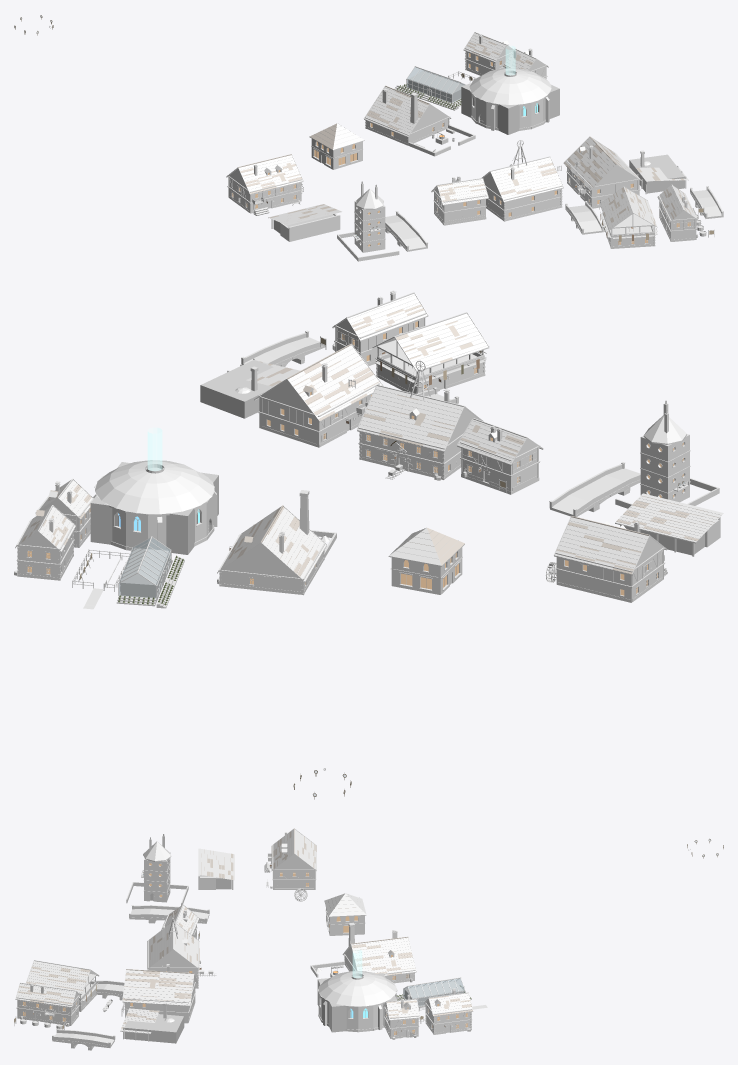
File: bld_oficios.glb
3 views of the same model, one above another, from view 1: azimuth 30°, elevation 25°; view 2: azimuth 150°, elevation 25°; view 3: azimuth 270°, elevation 25° (orthographic). The views are drawn at different scales.
Parts seen in each view (by area): view 1: CrisolPiedras_Roof, Gremio_Mineros_Roof, CrisolPiedras_Body, Taller_GranForja_Roof, Gremio_Mineros_Body, Gremio_Pescadores_Roof, Taller_Alquimia_Body, Taller_Carpinteria_Roof, Taller_Carpinteria_Body, Taller_Sastreria_Roof, Taller_GranForja_Body, Gremio_Pescadores_Body (+22 smaller); view 2: Gremio_Mineros_Roof, CrisolPiedras_Roof, Gremio_Pescadores_Roof, Gremio_Pescadores_Body, Taller_Sastreria_Roof, Taller_Carpinteria_Roof, Taller_Carpinteria_Body, CrisolPiedras_Body, Taller_GranForja_Roof, Taller_GranForja_Body, Gremio_Mineros_Body, Taller_Alquimia_Body (+20 smaller); view 3: Gremio_Pescadores_Roof, CrisolPiedras_Roof, Taller_GranForja_Roof, CrisolPiedras_Body, Taller_Sastreria_Roof, Gremio_Mineros_Roof, Taller_Carpinteria_Body, Taller_Alquimia_Body, Taller_Curtiduria_Body, Taller_Hornos_InteriorVolume, Taller_Carpinteria_Roof, Taller_Curtiduria_Roof (+20 smaller).
Boxes of the visible parts, left/top/right/bottom form: CrisolPiedras_Roof: left=469, top=68, right=551, bottom=104; Gremio_Mineros_Roof: left=482, top=140, right=563, bottom=202; CrisolPiedras_Body: left=470, top=46, right=551, bottom=130; Taller_GranForja_Roof: left=363, top=85, right=451, bottom=137; Gremio_Mineros_Body: left=483, top=172, right=562, bottom=221; Gremio_Pescadores_Roof: left=563, top=136, right=642, bottom=191; Taller_Alquimia_Body: left=337, top=200, right=399, bottom=261; Taller_Carpinteria_Roof: left=226, top=154, right=303, bottom=194; Taller_Carpinteria_Body: left=227, top=168, right=302, bottom=213; Taller_Sastreria_Roof: left=600, top=186, right=657, bottom=237; Taller_GranForja_Body: left=365, top=92, right=449, bottom=145; Gremio_Pescadores_Body: left=566, top=152, right=640, bottom=208; Gremio_Mineros_Roof: left=356, top=360, right=483, bottom=452; CrisolPiedras_Roof: left=95, top=460, right=214, bottom=514; Gremio_Pescadores_Roof: left=254, top=344, right=383, bottom=422; Gremio_Pescadores_Body: left=258, top=380, right=380, bottom=447; Taller_Sastreria_Roof: left=372, top=312, right=489, bottom=381; Taller_Carpinteria_Roof: left=554, top=516, right=666, bottom=575; Taller_Carpinteria_Body: left=555, top=537, right=664, bottom=602; CrisolPiedras_Body: left=93, top=427, right=217, bottom=550; Taller_GranForja_Roof: left=217, top=505, right=326, bottom=582; Taller_GranForja_Body: left=218, top=490, right=325, bottom=595; Gremio_Mineros_Body: left=358, top=408, right=482, bottom=479; Taller_Alquimia_Body: left=615, top=434, right=719, bottom=508; Gremio_Pescadores_Roof: left=122, top=964, right=197, bottom=1006; CrisolPiedras_Roof: left=318, top=971, right=396, bottom=1006; Taller_GranForja_Roof: left=342, top=930, right=416, bottom=976; CrisolPiedras_Body: left=317, top=949, right=397, bottom=1032; Taller_Sastreria_Roof: left=26, top=960, right=99, bottom=1000; Gremio_Mineros_Roof: left=147, top=912, right=199, bottom=969; Taller_Carpinteria_Body: left=267, top=844, right=316, bottom=889; Taller_Alquimia_Body: left=126, top=852, right=188, bottom=905; Taller_Curtiduria_Body: left=16, top=992, right=79, bottom=1025; Taller_Hornos_InteriorVolume: left=124, top=1014, right=184, bottom=1043; Taller_Carpinteria_Roof: left=271, top=828, right=316, bottom=871; Taller_Curtiduria_Roof: left=15, top=982, right=80, bottom=1007.
Size of what is drawn, in the model's own units: 120 by 21.64 by 201.
Materials: 25 (17 with a texture image).
